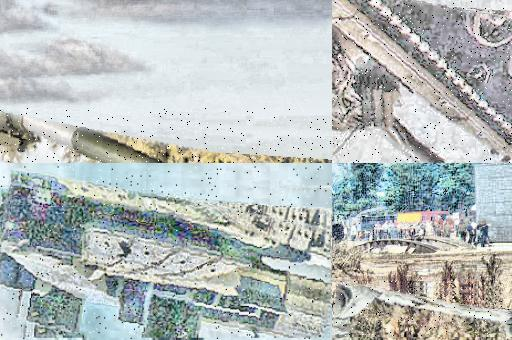tanks: (1, 168, 332, 340), (333, 1, 512, 164), (333, 283, 512, 336), (1, 113, 177, 164)
